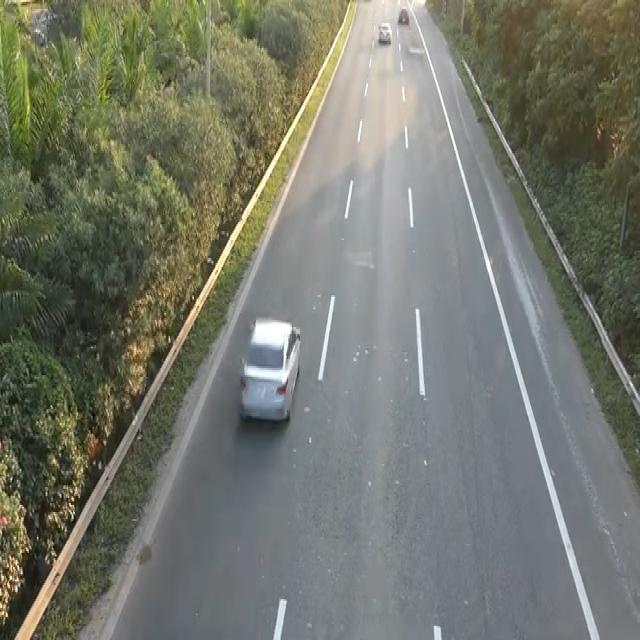bus: (237, 311, 302, 425)
